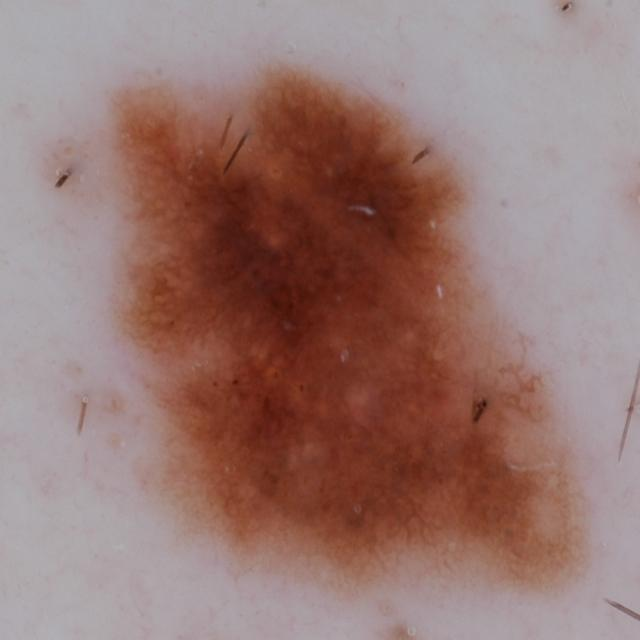Skin-Cancer Nevus: (44, 37, 607, 618)
